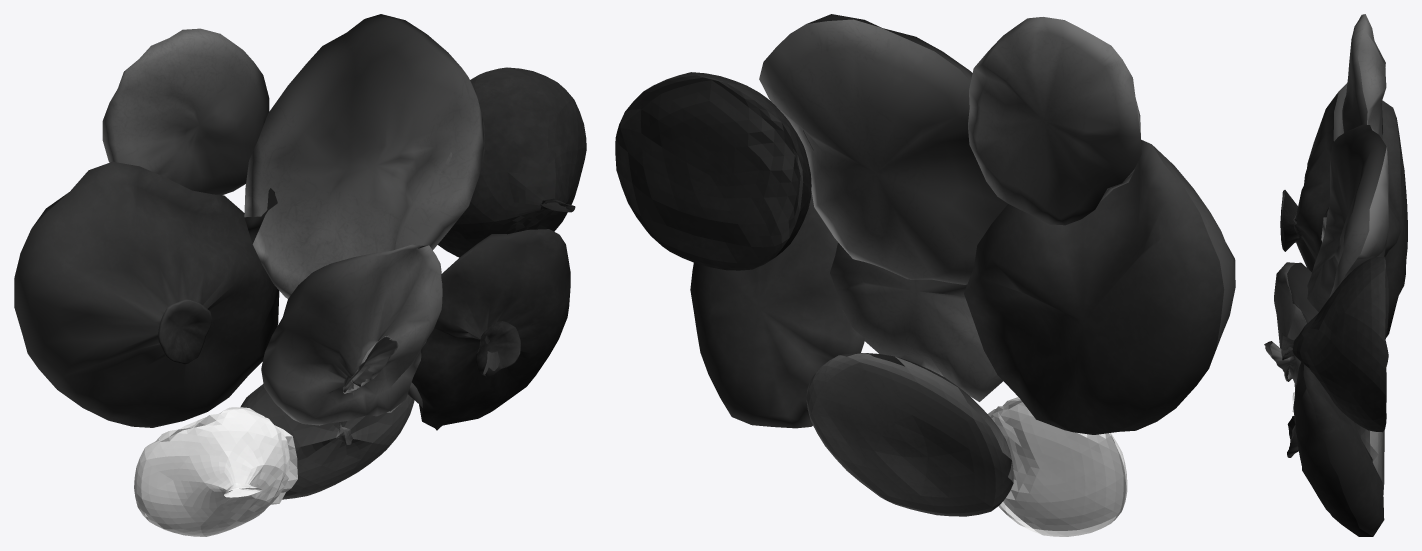
The model's file is bags.obj.
The picture shows the model from 3 angles, left to right: view 1: azimuth 30°, elevation 25°; view 2: azimuth 150°, elevation 25°; view 3: azimuth 270°, elevation 25°; orthographic projection. The views are drawn at different scales.
Parts seen in each view (by area): view 1: trash1_trash1_Sphere, trash6_trash1_Sphere.001, trash4_trash2_Sphere.001, trash3_trash3_Sphere.003, trash2_trash2_Sphere.000, bag3_Icosphere.002, bag2_Icosphere.001, bag1_Icosphere; view 2: trash1_trash1_Sphere, trash6_trash1_Sphere.001, bag3_Icosphere.002, trash2_trash2_Sphere.000, bag1_Icosphere, trash3_trash3_Sphere.003, trash4_trash2_Sphere.001, bag2_Icosphere.001; view 3: bag3_Icosphere.002, trash6_trash1_Sphere.001, trash3_trash3_Sphere.003, trash1_trash1_Sphere, trash2_trash2_Sphere.000, trash4_trash2_Sphere.001, bag1_Icosphere.
Part boxes in pixels (x1,y1,x2,y2): trash1_trash1_Sphere: [14, 161, 279, 427]; trash6_trash1_Sphere.001: [244, 14, 484, 298]; trash4_trash2_Sphere.001: [261, 244, 442, 425]; trash3_trash3_Sphere.003: [408, 229, 570, 430]; trash2_trash2_Sphere.000: [102, 28, 269, 194]; bag3_Icosphere.002: [438, 67, 586, 257]; bag2_Icosphere.001: [134, 407, 297, 536]; bag1_Icosphere: [240, 384, 414, 499]; trash1_trash1_Sphere: [964, 139, 1235, 434]; trash6_trash1_Sphere.001: [759, 14, 1007, 284]; bag3_Icosphere.002: [615, 72, 811, 270]; trash2_trash2_Sphere.000: [968, 17, 1141, 225]; bag1_Icosphere: [806, 353, 1013, 516]; trash3_trash3_Sphere.003: [690, 191, 864, 428]; trash4_trash2_Sphere.001: [830, 242, 1002, 401]; bag2_Icosphere.001: [988, 397, 1127, 536]; bag3_Icosphere.002: [1281, 257, 1388, 432]; trash6_trash1_Sphere.001: [1307, 124, 1388, 312]; trash3_trash3_Sphere.003: [1287, 362, 1384, 536]; trash1_trash1_Sphere: [1280, 83, 1407, 337]; trash2_trash2_Sphere.000: [1342, 14, 1386, 138]; trash4_trash2_Sphere.001: [1264, 262, 1318, 390]; bag1_Icosphere: [1354, 422, 1384, 494].
Size of the model in its own units: 1.12 by 0.9401 by 0.2842.
Materials: 3 (3 with a texture image).
